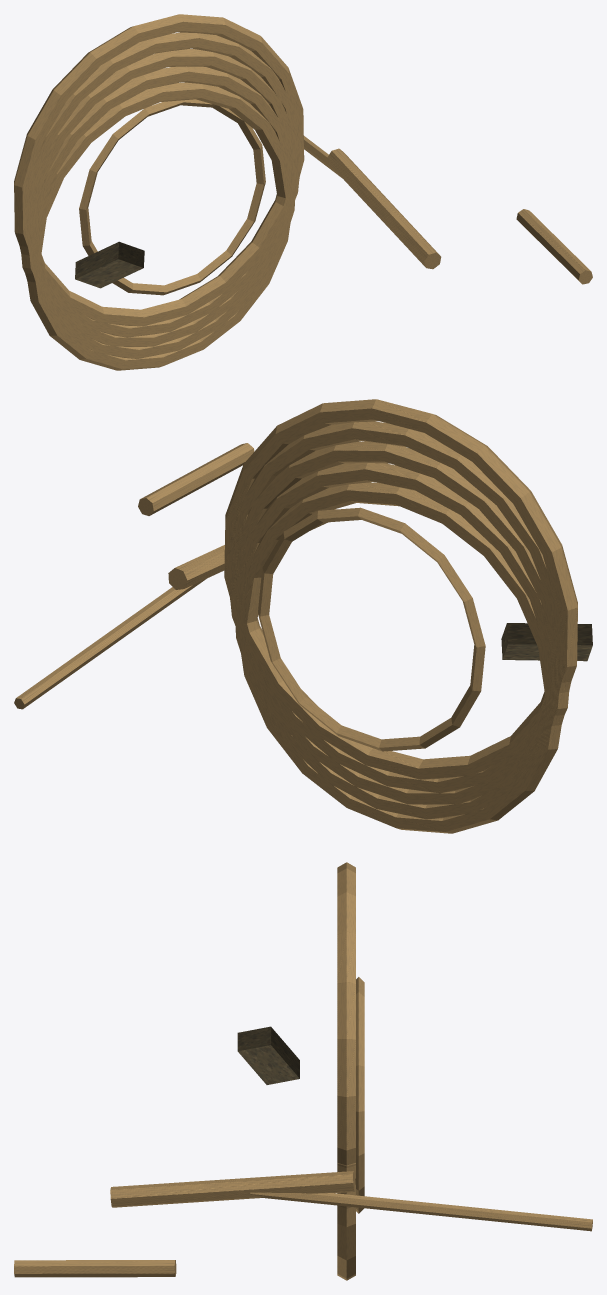
File: pr-002_rope_coil__placed.obj
The picture shows the model from 3 angles, top to bottom: view 1: azimuth 30°, elevation 25°; view 2: azimuth 150°, elevation 25°; view 3: azimuth 270°, elevation 25°; orthographic projection. The views are drawn at different scales.
Visible parts, largest first — view 1: pr-002_rope_coil__placed; view 2: pr-002_rope_coil__placed; view 3: pr-002_rope_coil__placed.
Part boxes in pixels (x1=…): pr-002_rope_coil__placed: x1=14, y1=14, x2=592, y2=370; pr-002_rope_coil__placed: x1=14, y1=399, x2=592, y2=833; pr-002_rope_coil__placed: x1=14, y1=862, x2=592, y2=1280.
Size of the model in its own units: 0.9348 by 0.709 by 0.9665.
2 materials, 2 textured.
